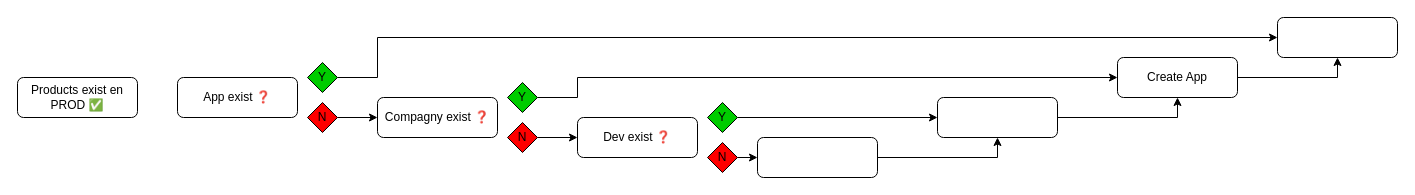
This 1415x195 diagram has some shape labels left out. Each missing label, with the box of its shape:
Add product: (1276, 16, 1398, 58)
Create Compagny: (936, 96, 1058, 138)
Create Dev: (756, 136, 878, 178)
